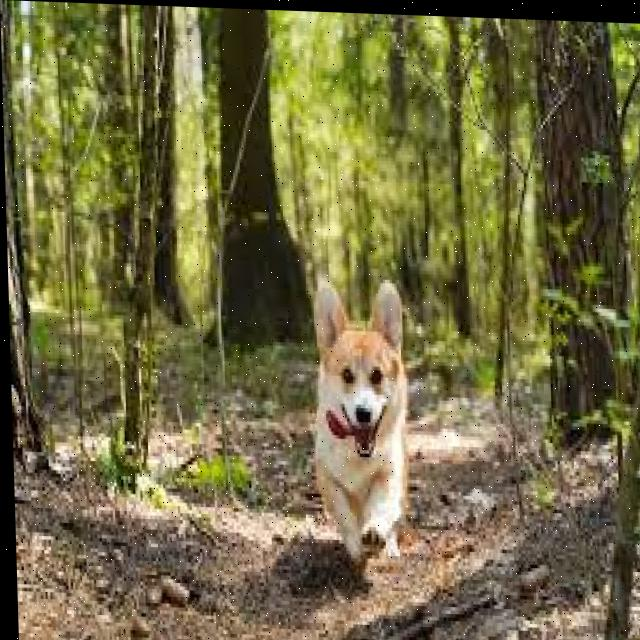CORGI: (305, 273, 434, 569)
